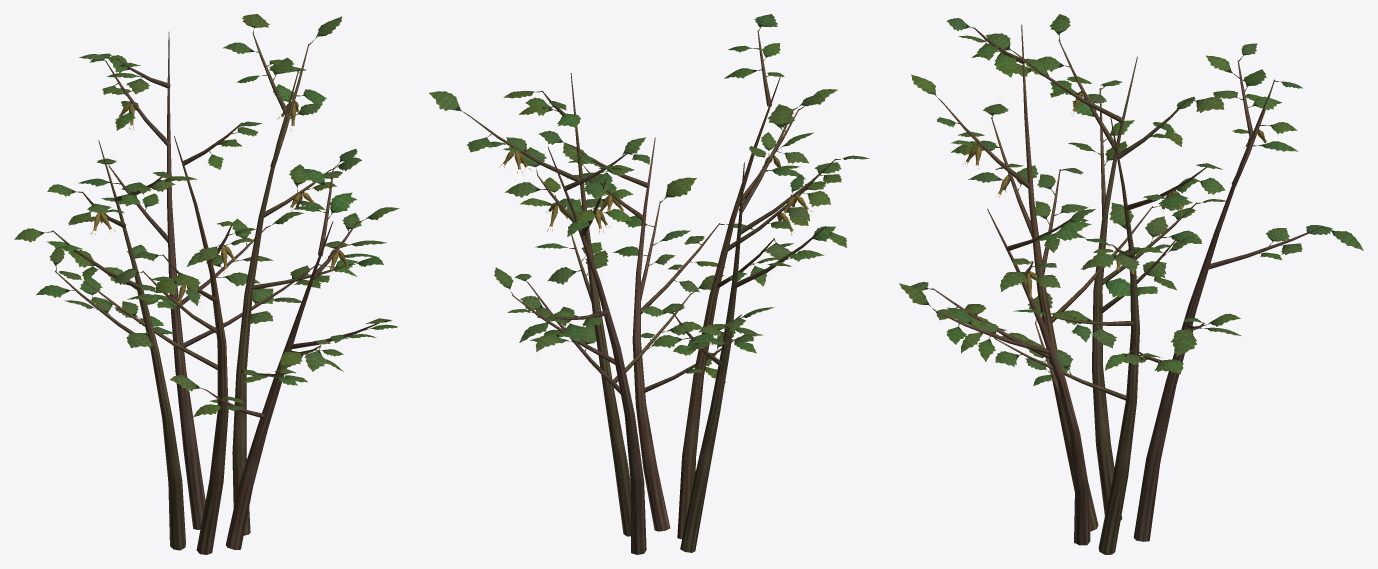
File: lakeside_hazel.glb
3 views of the same model, side by side, from view 1: azimuth 30°, elevation 25°; view 2: azimuth 150°, elevation 25°; view 3: azimuth 270°, elevation 25° (orthographic). The views are drawn at different scales.
Parts seen in each view (by area): view 1: Manchurian hazel; view 2: Manchurian hazel; view 3: Manchurian hazel.
Part boxes in pixels (left/top/right/bottom): Manchurian hazel: left=14, top=14, right=399, bottom=554; Manchurian hazel: left=429, top=14, right=869, bottom=554; Manchurian hazel: left=899, top=14, right=1363, bottom=554.
Size of the model in its own units: 1.2 by 1.47 by 1.24.
Materials: 1 (1 with a texture image).
